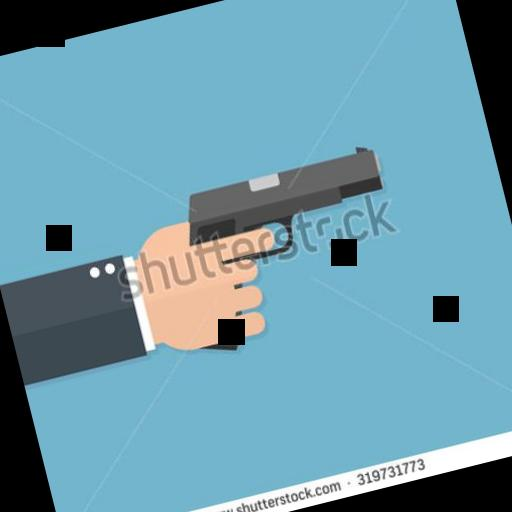Handgun: (149, 138, 410, 362)
